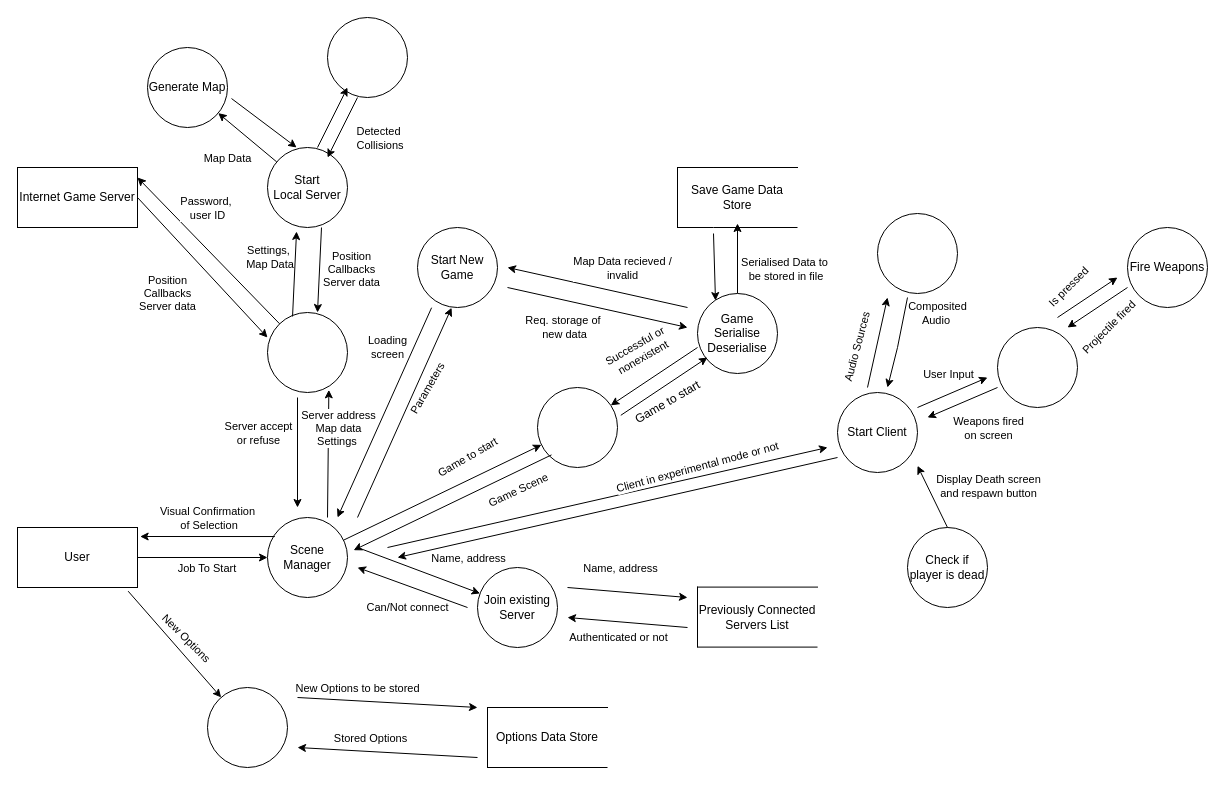
The diagram is 1225 pixels wide and 786 high, and some of its shapes have lost their labels. Here are the shapes that lost their labels. From the top down, the centre of each, then its label:
At point 367,57: "Detect Collisions".
At point 917,253: "Run Audio Manager".
At point 307,352: "Server and Connection Manager".
At point 1037,367: "Poll for weapons fire button".
At point 577,427: "Start Previous Game".
At point 247,727: "Options Menu".
